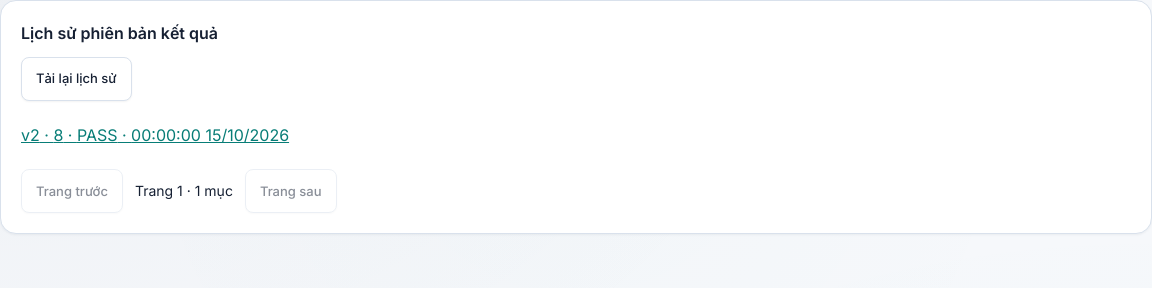
Test: does not show a result returned for a different student or version
The width and height of the screenshot is (1152, 288).
Click the button "v2 · 8 · PASS · 00:00:00 15/10/2026".
click(155, 135)  # box top-left (21, 113), bottom-right (289, 157)
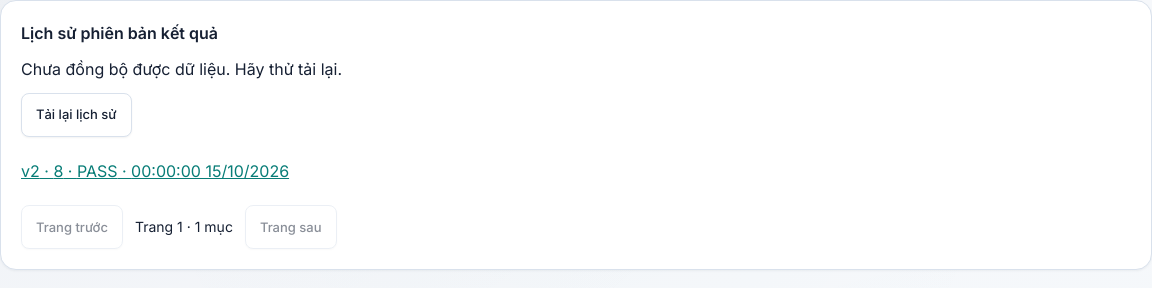
Expected: the message "Chưa đồng bộ được dữ liệu. Hãy thử tải lại." is shown, top-left (21, 59), bottom-right (342, 79)
